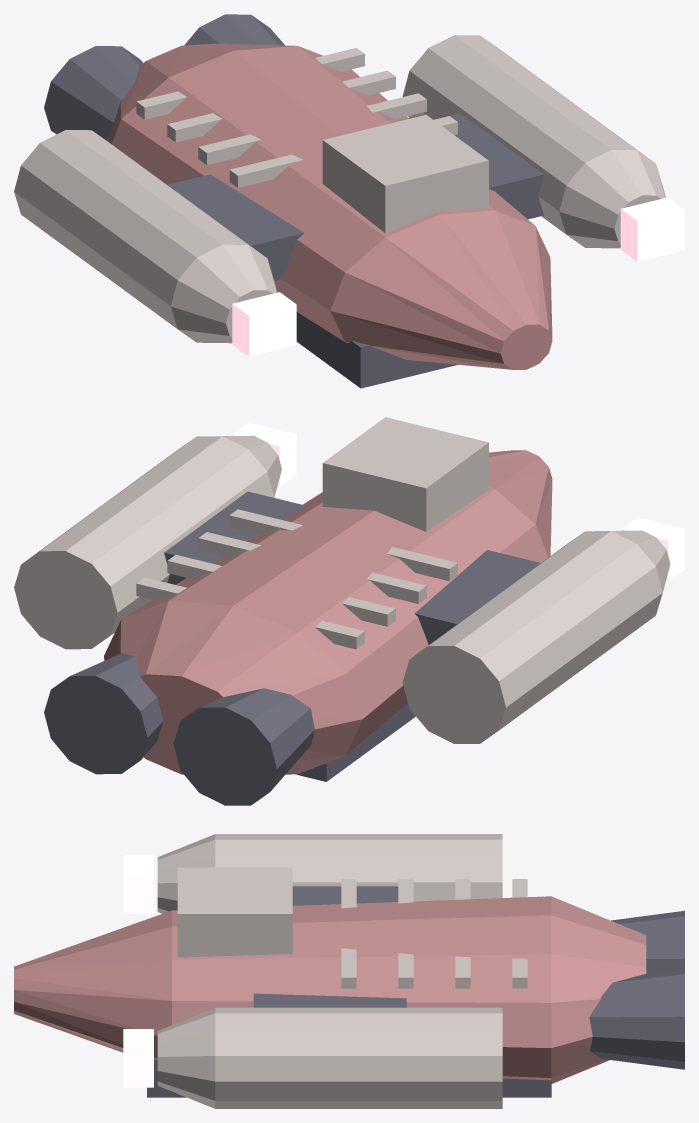
3 views of the same model, one above another, from view 1: azimuth 30°, elevation 25°; view 2: azimuth 150°, elevation 25°; view 3: azimuth 270°, elevation 25° (orthographic). The views are drawn at different scales.
Size of the model in its own units: 5.38 by 1.99 by 6.93.
